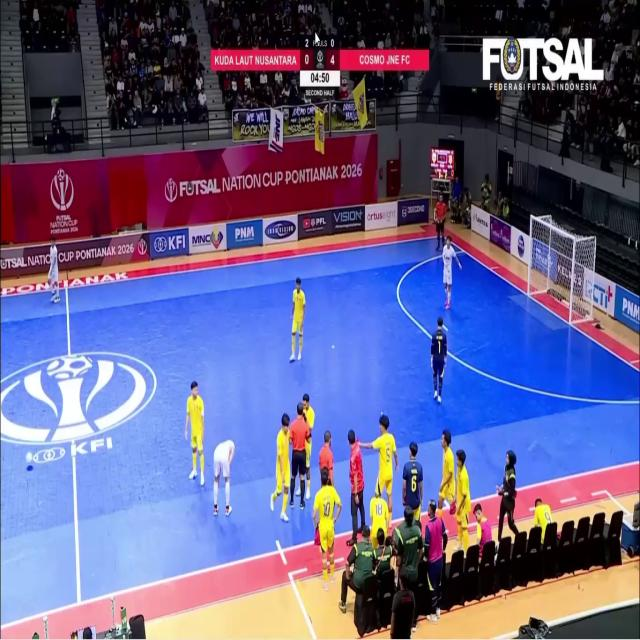keeper: (443, 236, 461, 309)
official: (425, 500, 447, 623), (347, 430, 365, 545), (497, 450, 518, 541)
players: (361, 415, 398, 513), (313, 469, 341, 589), (271, 414, 290, 521), (185, 381, 204, 485), (403, 443, 423, 529), (214, 440, 235, 515), (430, 317, 448, 403), (456, 450, 471, 553), (438, 430, 455, 516), (290, 278, 305, 361), (370, 495, 390, 549), (48, 238, 59, 303), (306, 440, 312, 499)
referee: (290, 403, 311, 509), (319, 430, 333, 483), (434, 193, 447, 250)
